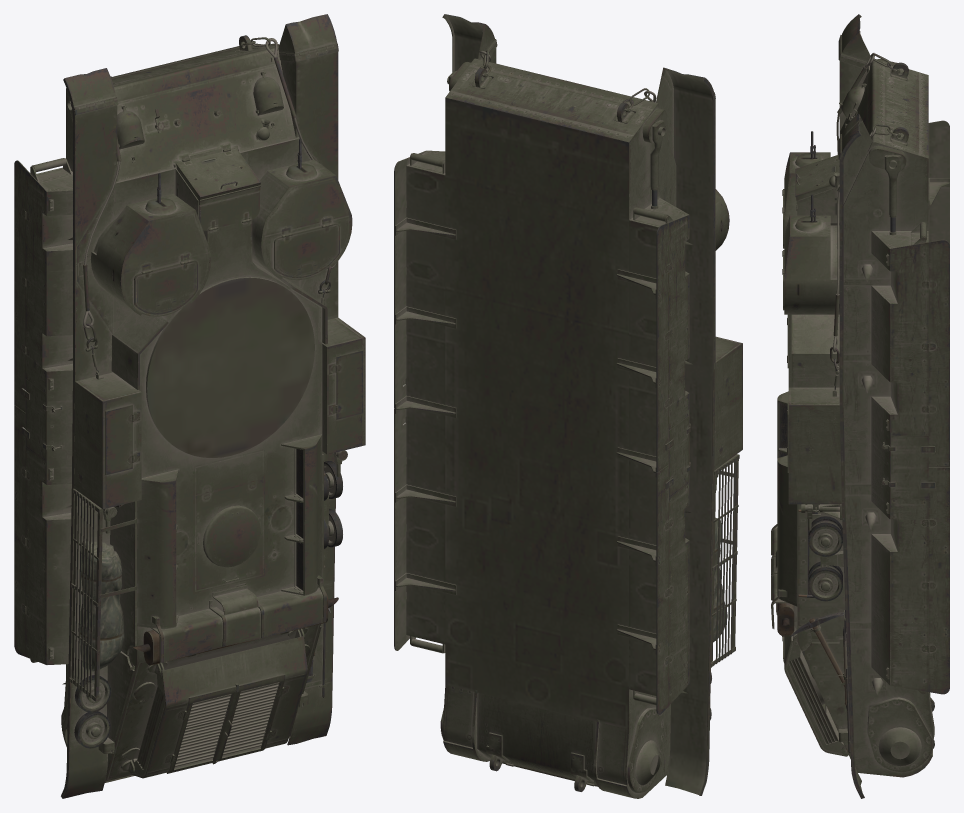
The model's file is Hull.glb.
3 views of the same model, side by side, from view 1: azimuth 30°, elevation 25°; view 2: azimuth 150°, elevation 25°; view 3: azimuth 270°, elevation 25° (orthographic). The views are drawn at different scales.
Visible parts, largest first — view 1: set_0_group_0; view 2: set_0_group_0; view 3: set_0_group_0.
Boxes of the visible parts, box(x1,y1,x2,y2) form: set_0_group_0: box(14, 14, 365, 798); set_0_group_0: box(394, 14, 742, 798); set_0_group_0: box(771, 14, 949, 798).
Size of the model in its own units: 2.85 by 7.37 by 1.79.
Materials: 1 (1 with a texture image).
